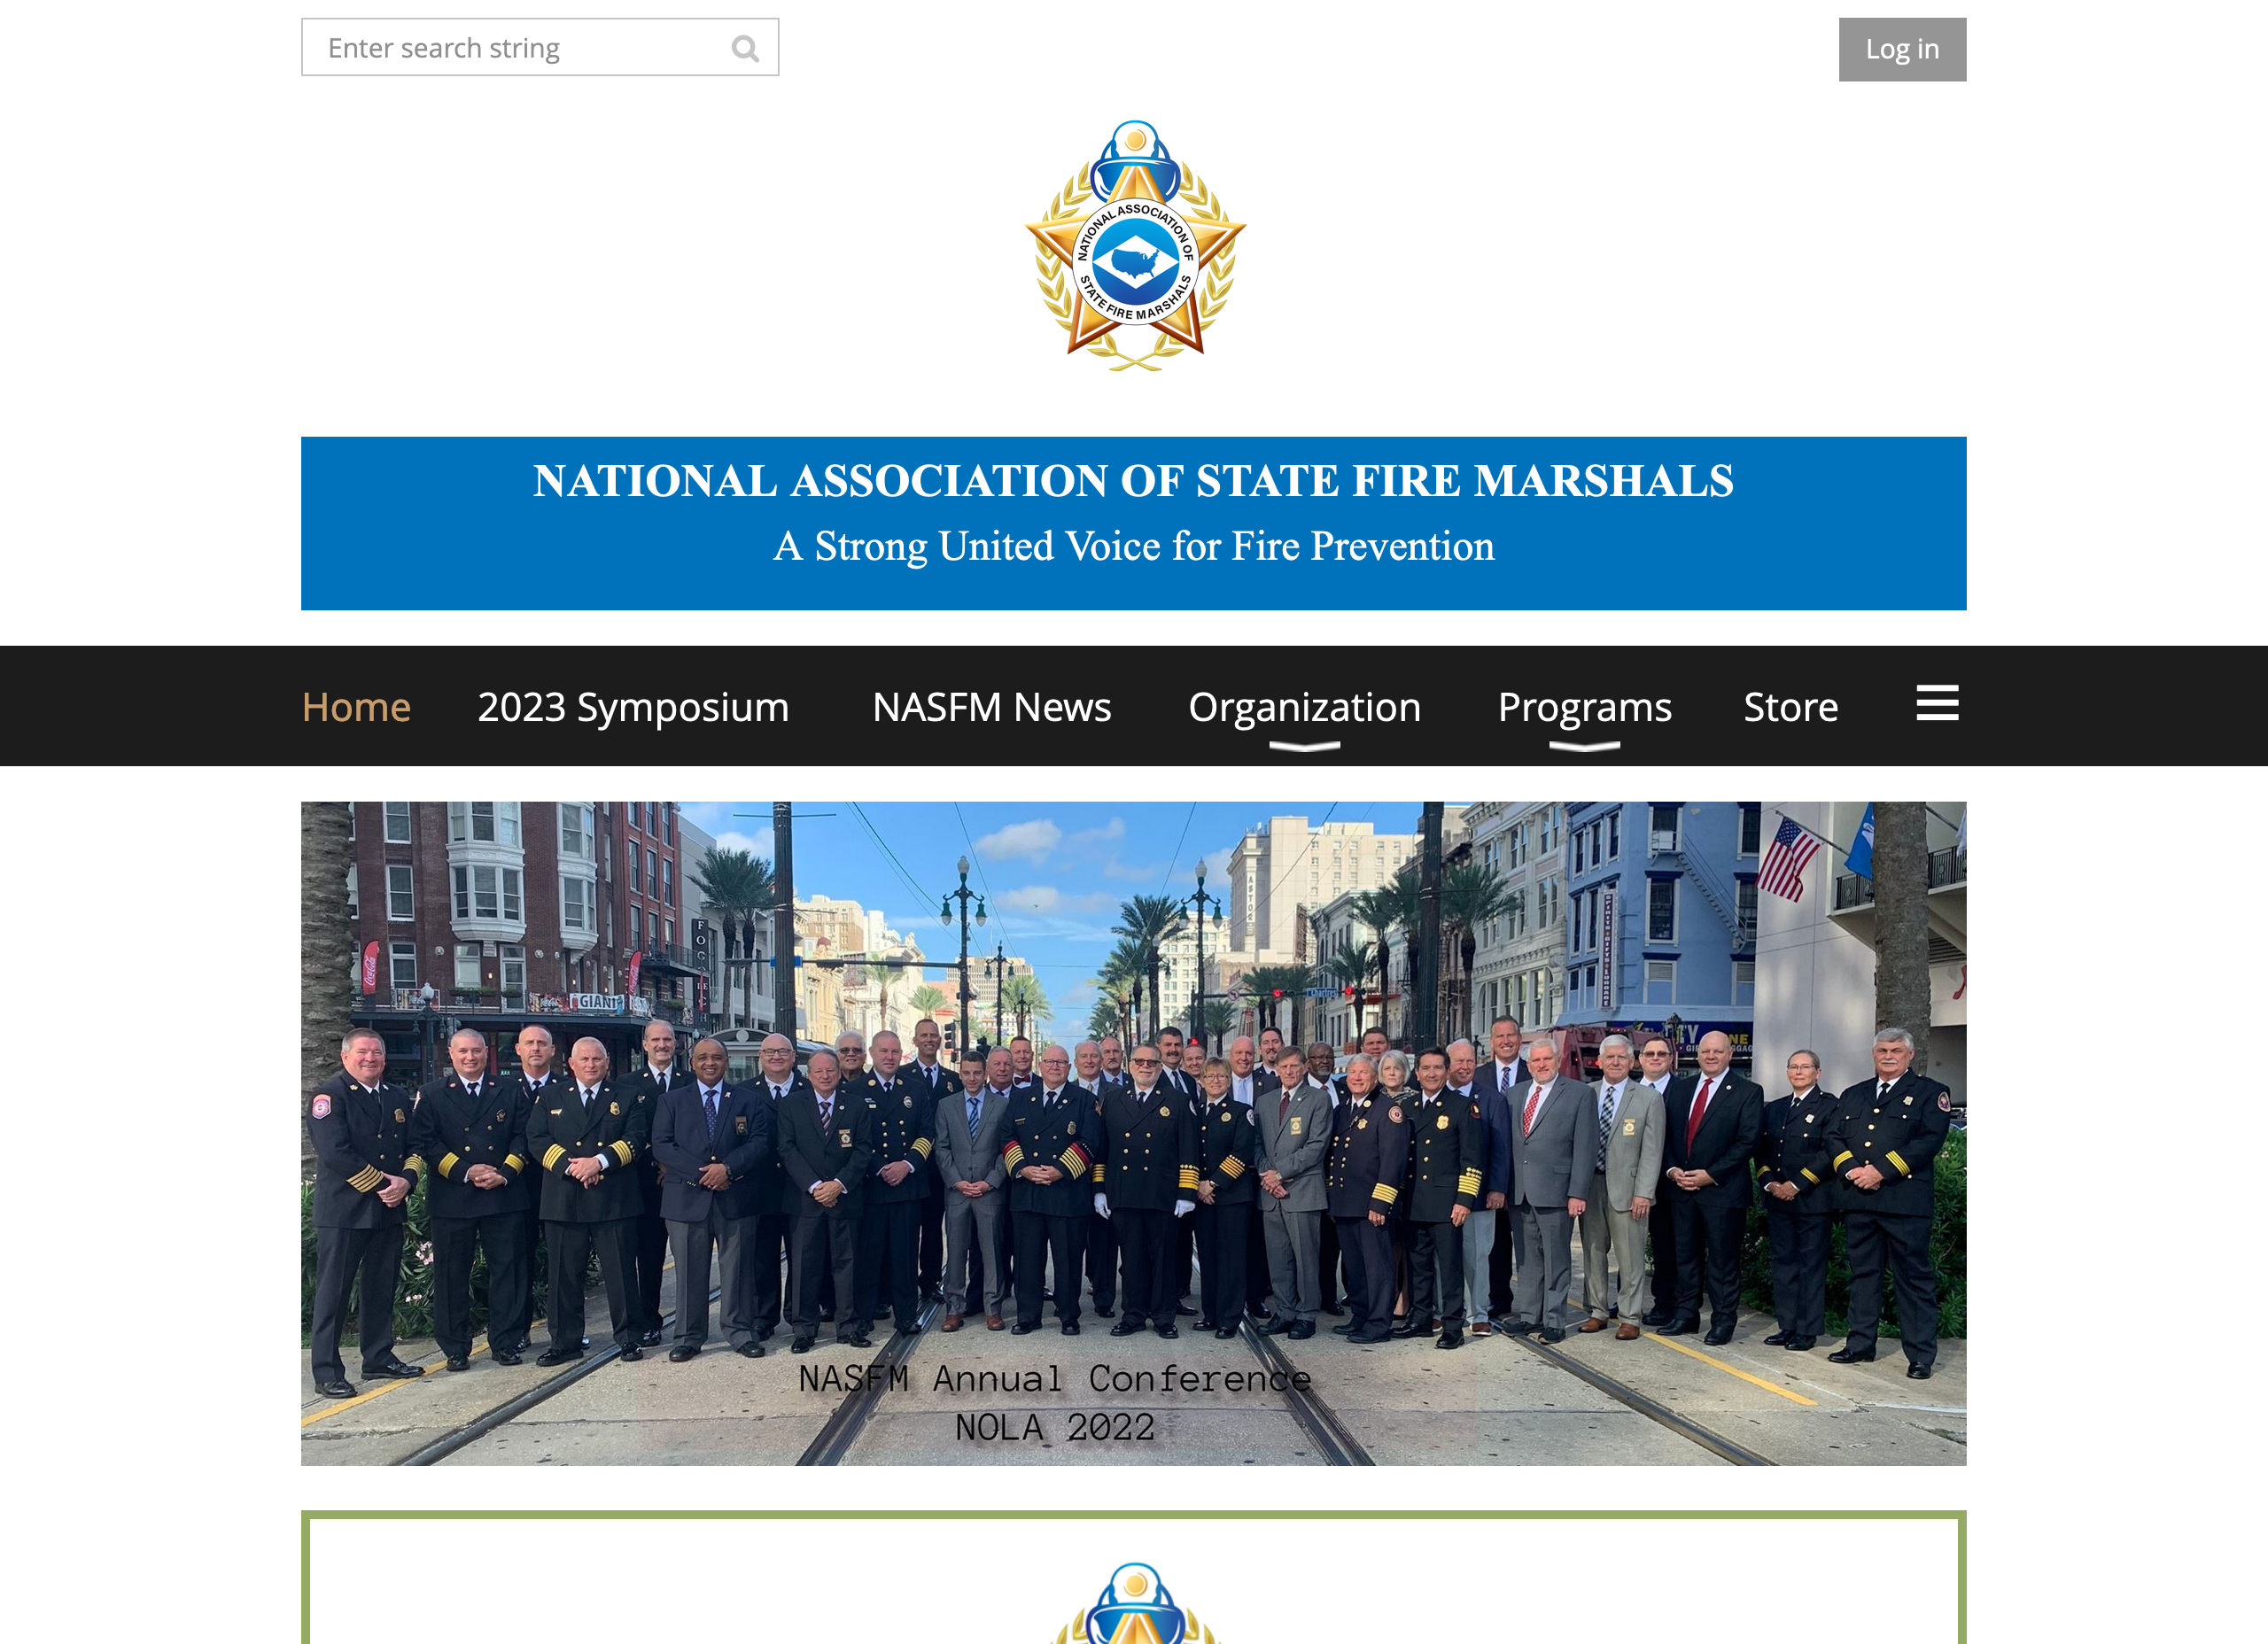Login: (1823, 11, 1993, 100)
